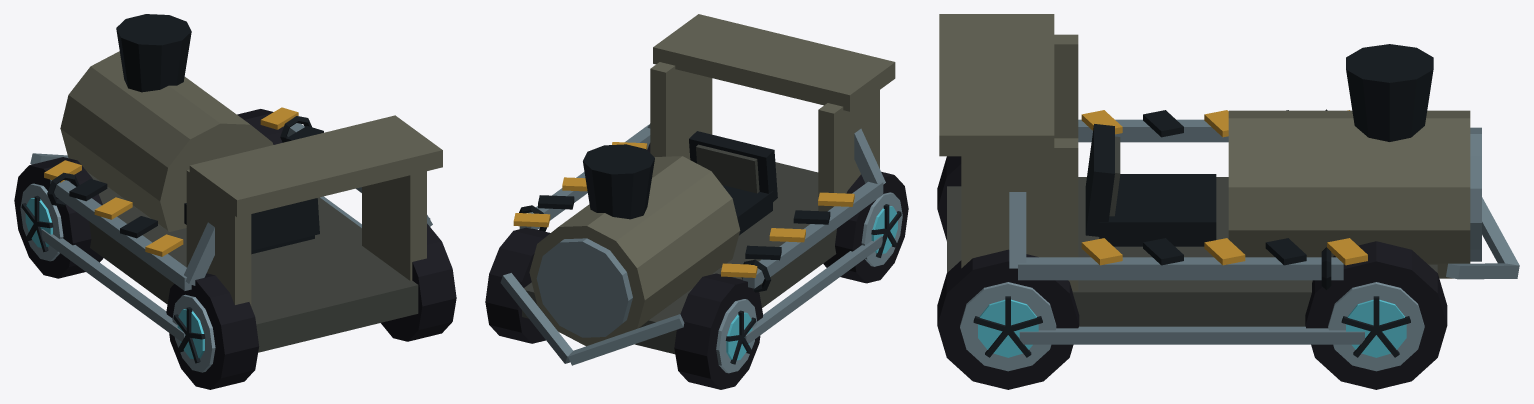
Rendered from kart.glb.
The picture shows the model from 3 angles, left to right: view 1: azimuth 30°, elevation 25°; view 2: azimuth 150°, elevation 25°; view 3: azimuth 270°, elevation 25°; orthographic projection. The views are drawn at different scales.
Parts seen in each view (by area): view 1: identity-train-locomotive-boiler-and-cowcatcher, wheel-rear-left, wheel-front-left, identity-train-motif-pipes, wheel-rear-right, identity-train-motif-hazard-stripes, identity-train-driver-cockpit, wheel-front-right; view 2: identity-train-locomotive-boiler-and-cowcatcher, wheel-front-left, identity-train-driver-cockpit, wheel-rear-left, identity-train-motif-pipes, wheel-front-right, identity-train-motif-hazard-stripes; view 3: identity-train-locomotive-boiler-and-cowcatcher, wheel-front-right, wheel-rear-right, identity-train-motif-pipes, identity-train-driver-cockpit, identity-train-motif-hazard-stripes, wheel-rear-left.
Boxes of the visible parts, x1,y1,x2,y2 form: identity-train-locomotive-boiler-and-cowcatcher: [30, 14, 442, 352]; wheel-rear-left: [166, 273, 259, 389]; wheel-front-left: [14, 157, 103, 278]; identity-train-motif-pipes: [47, 116, 432, 290]; wheel-rear-right: [381, 223, 456, 341]; identity-train-motif-hazard-stripes: [44, 107, 323, 256]; identity-train-driver-cockpit: [184, 198, 319, 254]; wheel-front-right: [237, 109, 283, 144]; identity-train-locomotive-boiler-and-cowcatcher: [500, 14, 895, 365]; wheel-front-left: [674, 273, 762, 389]; identity-train-driver-cockpit: [689, 131, 777, 235]; wheel-rear-left: [823, 171, 908, 283]; identity-train-motif-pipes: [519, 123, 885, 292]; wheel-front-right: [485, 227, 550, 343]; identity-train-motif-hazard-stripes: [513, 142, 854, 277]; identity-train-locomotive-boiler-and-cowcatcher: [939, 14, 1519, 344]; wheel-front-right: [1305, 241, 1447, 389]; wheel-rear-right: [937, 249, 1079, 389]; identity-train-motif-pipes: [1009, 109, 1343, 289]; identity-train-driver-cockpit: [1085, 124, 1216, 246]; identity-train-motif-hazard-stripes: [1081, 110, 1367, 265]; wheel-rear-left: [937, 156, 961, 240].
Bounding box in the file's own units: 1.94 × 1.49 × 3.04.
